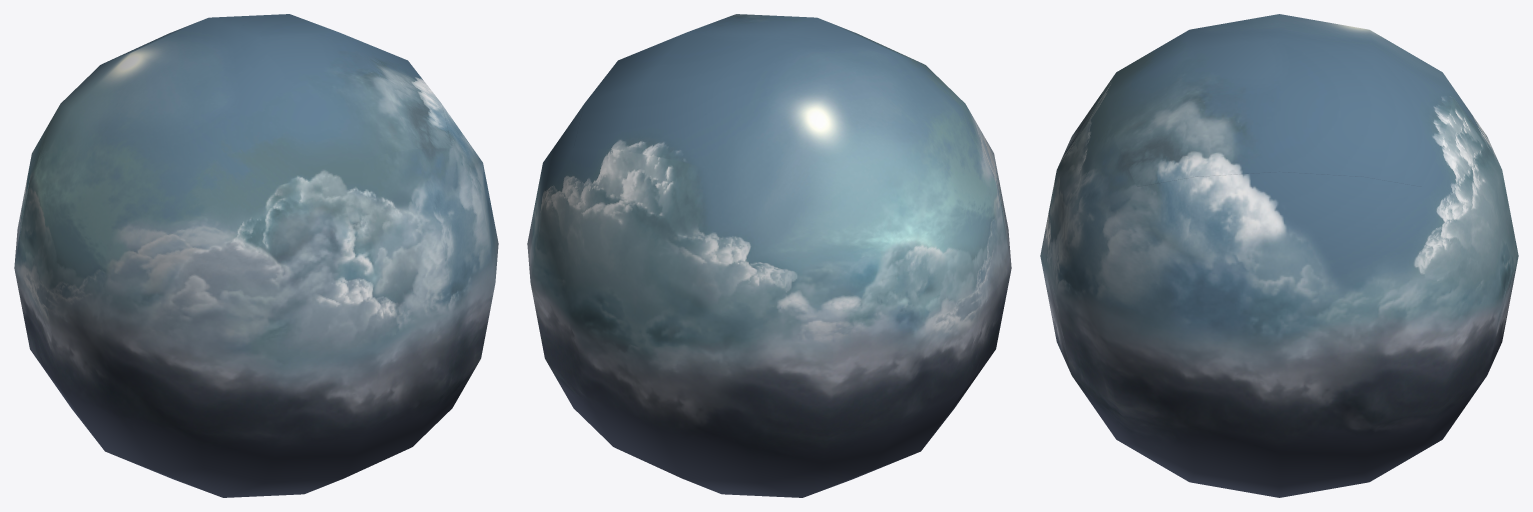
File: Skybox.obj
3 views of the same model, side by side, from view 1: azimuth 30°, elevation 25°; view 2: azimuth 150°, elevation 25°; view 3: azimuth 270°, elevation 25° (orthographic).
Visible parts, largest first — view 1: Cube; view 2: Cube; view 3: Cube.
Boxes of the visible parts, bbox=[...] form: Cube: bbox=[14, 14, 498, 497]; Cube: bbox=[527, 14, 1011, 497]; Cube: bbox=[1040, 14, 1518, 497].
Size of the model in its own units: 161 by 161 by 161.
1 material, 1 textured.
